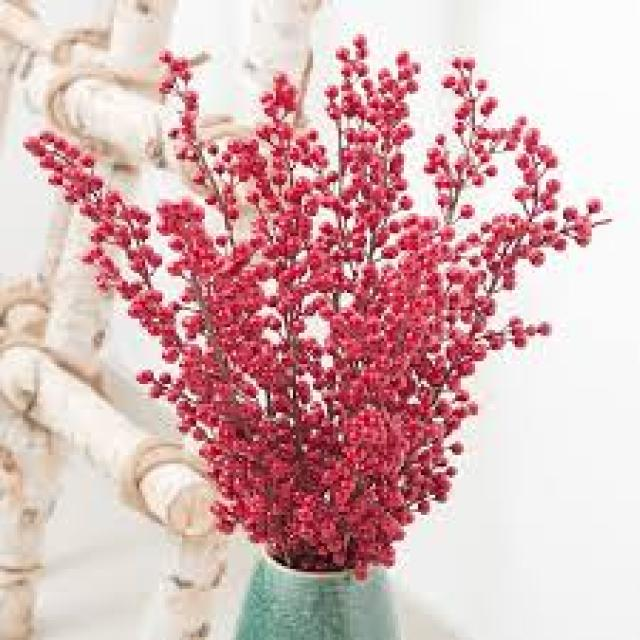Organik: (14, 36, 315, 558), (322, 30, 612, 561)
